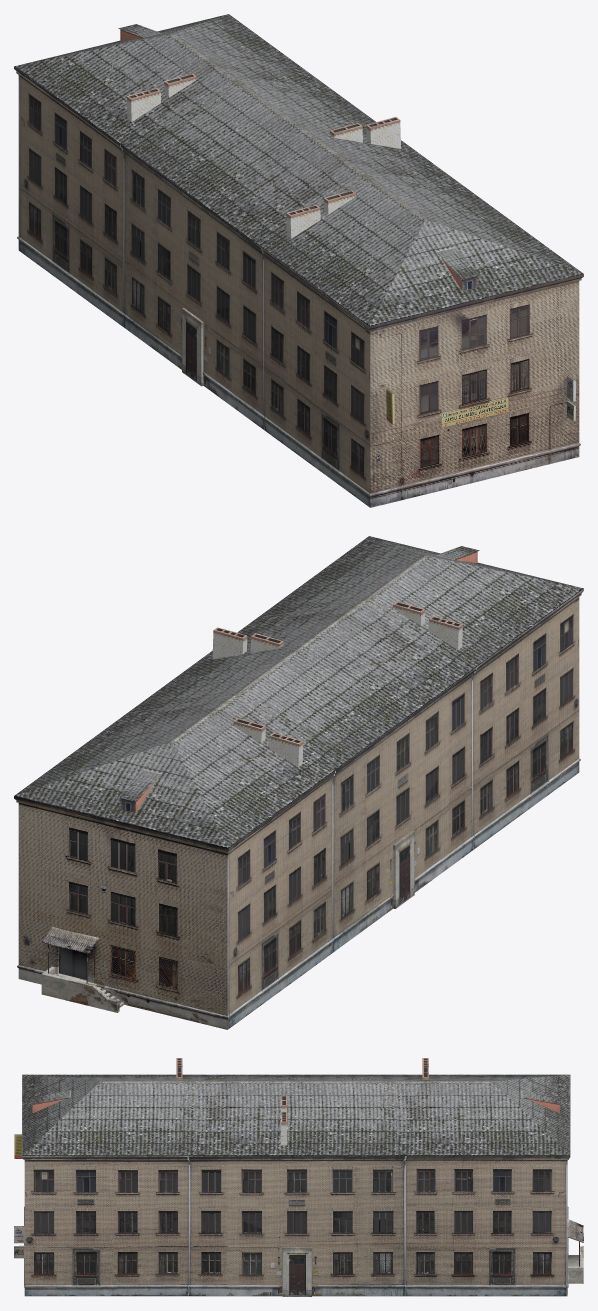
File: 3floor.glb
The picture shows the model from 3 angles, top to bottom: view 1: azimuth 30°, elevation 25°; view 2: azimuth 150°, elevation 25°; view 3: azimuth 270°, elevation 25°; orthographic projection. The views are drawn at different scales.
Parts seen in each view (by area): view 1: stalinka1, stalinka1_extras; view 2: stalinka1; view 3: stalinka1, stalinka1_extras.
Boxes of the visible parts, box(x1,y1,x2,y2) form: stalinka1: box(14, 14, 583, 507); stalinka1_extras: box(386, 375, 575, 427); stalinka1: box(14, 536, 583, 1029); stalinka1: box(22, 1058, 583, 1296); stalinka1_extras: box(14, 1134, 24, 1258).
Bounding box in the file's own units: 11.59 × 11.72 × 34.5.
11 materials, 8 textured.
